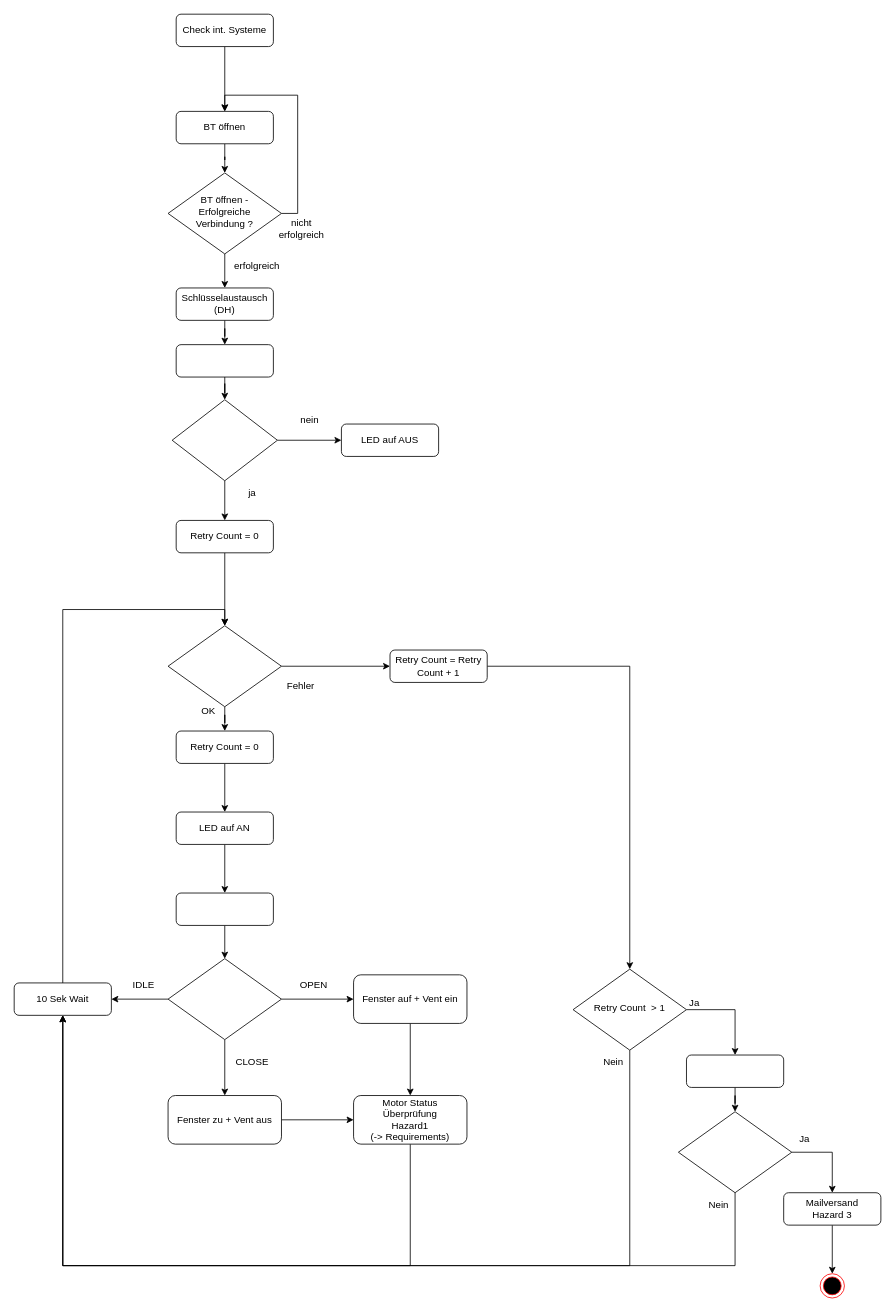
Some shapes in this 895 by 1312 pixel diagram are drawn without their labels. The centre of each missing label's shape, as x and y in pixels:
Daten Empfang von Arduino erfolgreich?: the point at 224,666
initial Fenster auf & zu erfolgreich?: the point at 224,440
LED soll Blinken: the point at 735,1070
Retry Count > 2: the point at 735,1152
Sent Ack to arduino: the point at 224,908
Status Check: the point at 224,999
Überprüfung erfolg. verschlüs. Verb.: the point at 224,360
